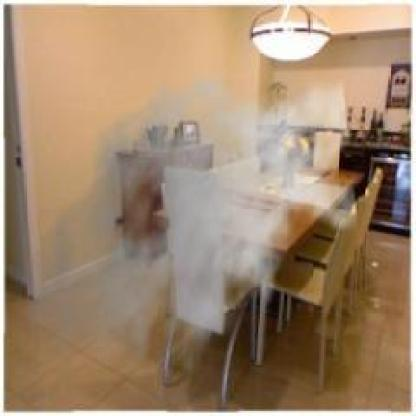Smoke: (21, 56, 359, 402)
